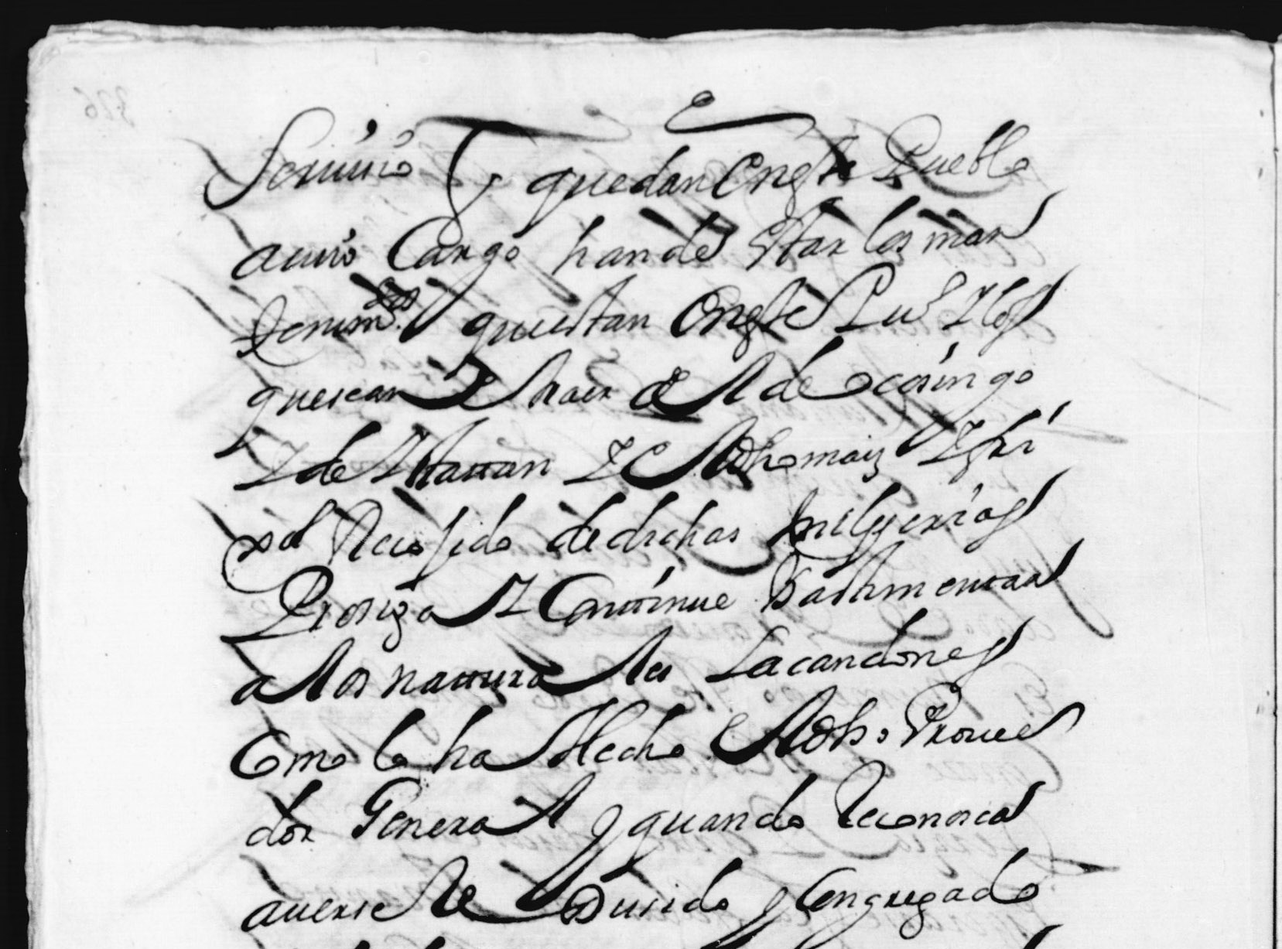lacandon: (704, 607, 1035, 693)
